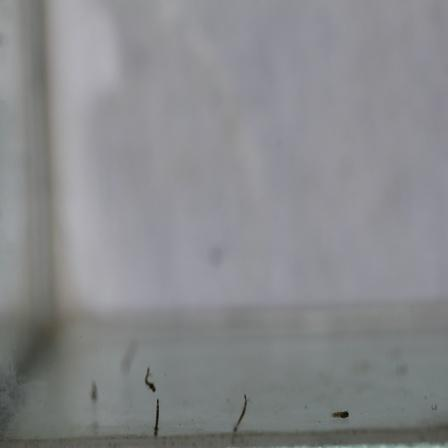Jentik-Nyamuk: (229, 390, 252, 434), (149, 396, 166, 439), (324, 405, 356, 423), (141, 364, 160, 394)
